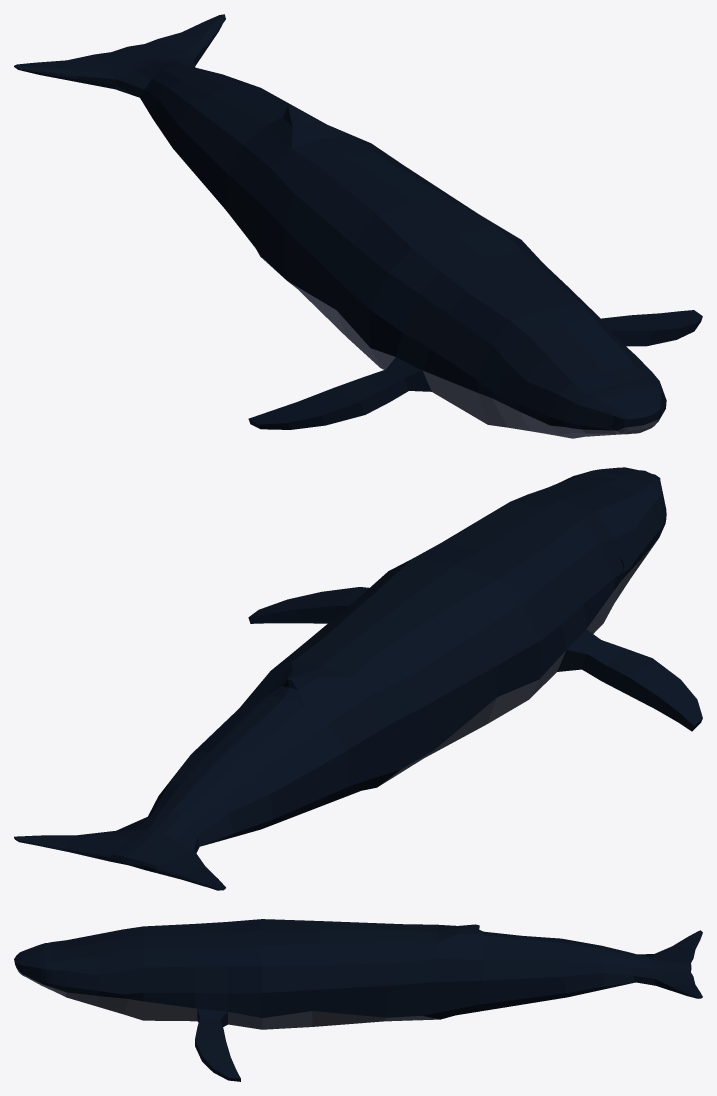
Rendered from whale.obj.
3 views of the same model, one above another, from view 1: azimuth 30°, elevation 25°; view 2: azimuth 150°, elevation 25°; view 3: azimuth 270°, elevation 25° (orthographic). The views are drawn at different scales.
Parts seen in each view (by area): view 1: Plane; view 2: Plane; view 3: Plane.
Part boxes in pixels (x1,y1,x2,y2): Plane: [14, 14, 702, 438]; Plane: [14, 467, 702, 890]; Plane: [14, 919, 702, 1081].
Bounding box in the file's own units: 15.88 × 4.55 × 32.53.
